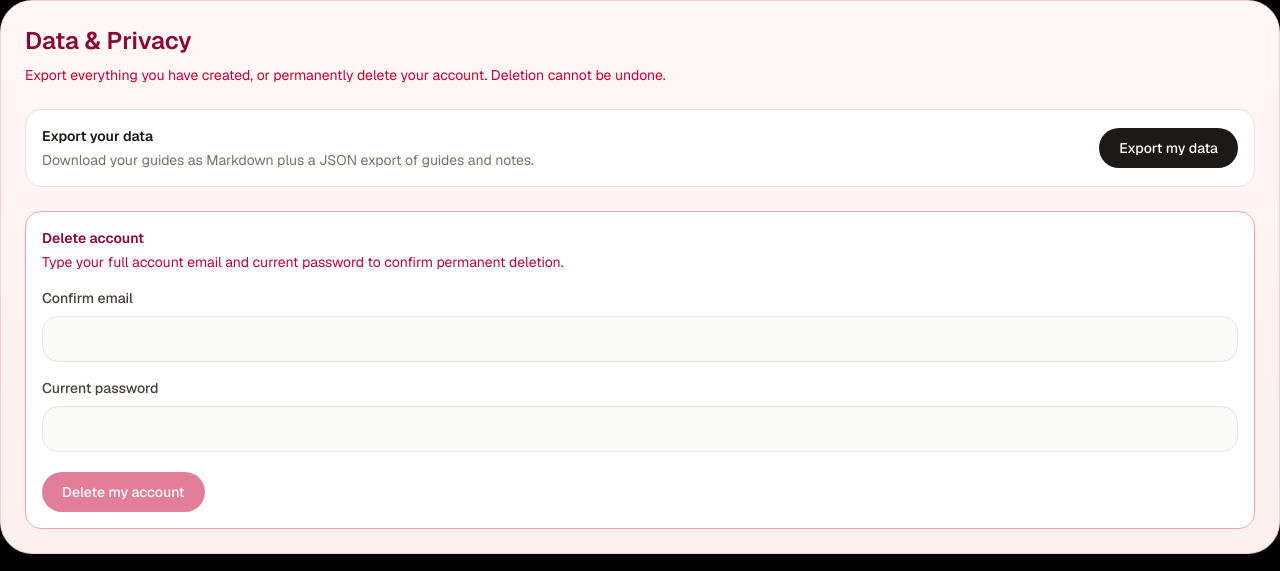
Test: DangerZone › keeps delete disabled until the confirmation email matches exactly
The width and height of the screenshot is (1280, 571).
Expected: the button with test id "account-delete-button" is disabled, [42,472,205,512]
Type "user@exampl" into the field with test id "account-delete-confirm-email". click: (640, 339)
box: [42,316,1238,362]
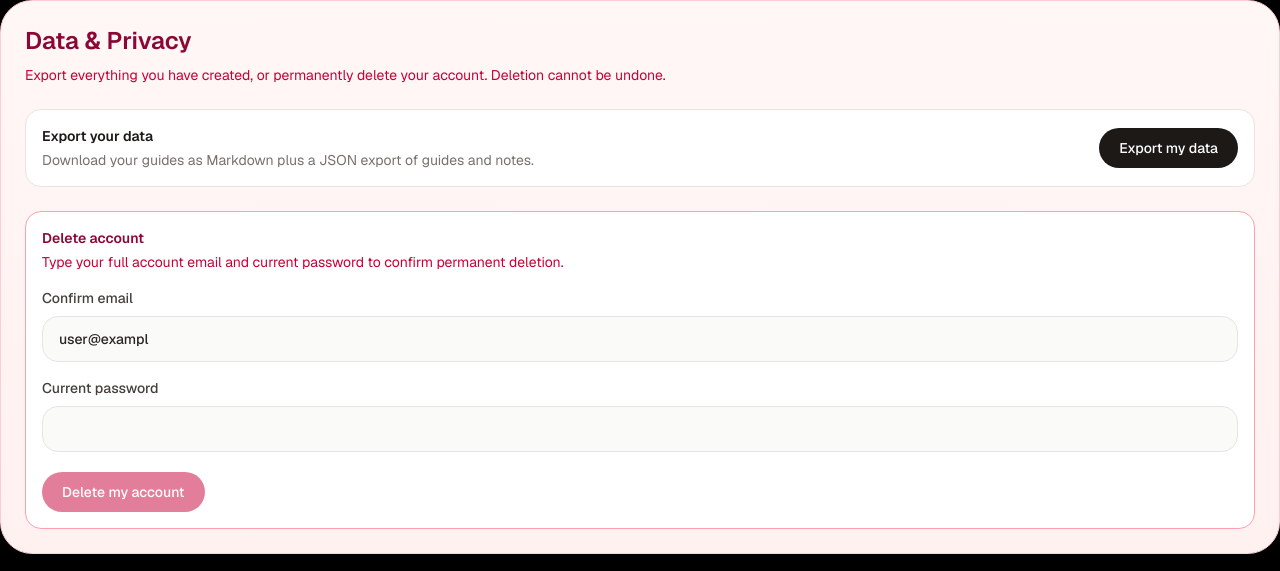
Type "Passw0rd!123" into the password field with test id "account-delete-password". click: (640, 429)
box: [42,406,1238,452]
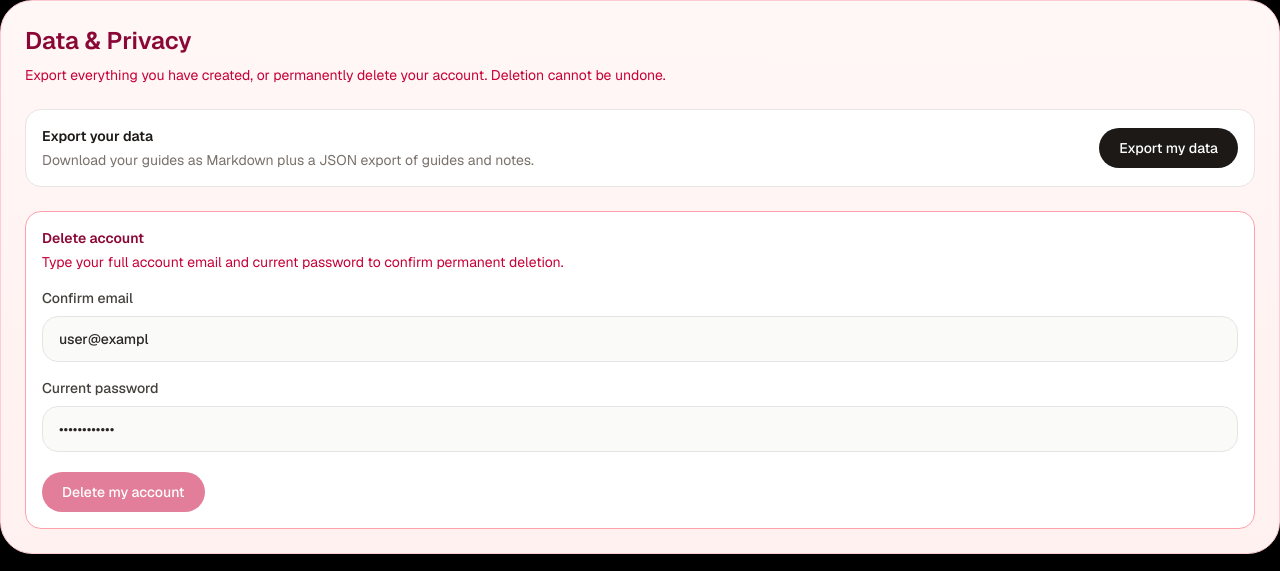
Expected: the button with test id "account-delete-button" is disabled, [42,472,205,512]
Replace the text in the field with test id "account-delete-confirm-email" with "user@example.com". click: (640, 339)
box: [42,316,1238,362]
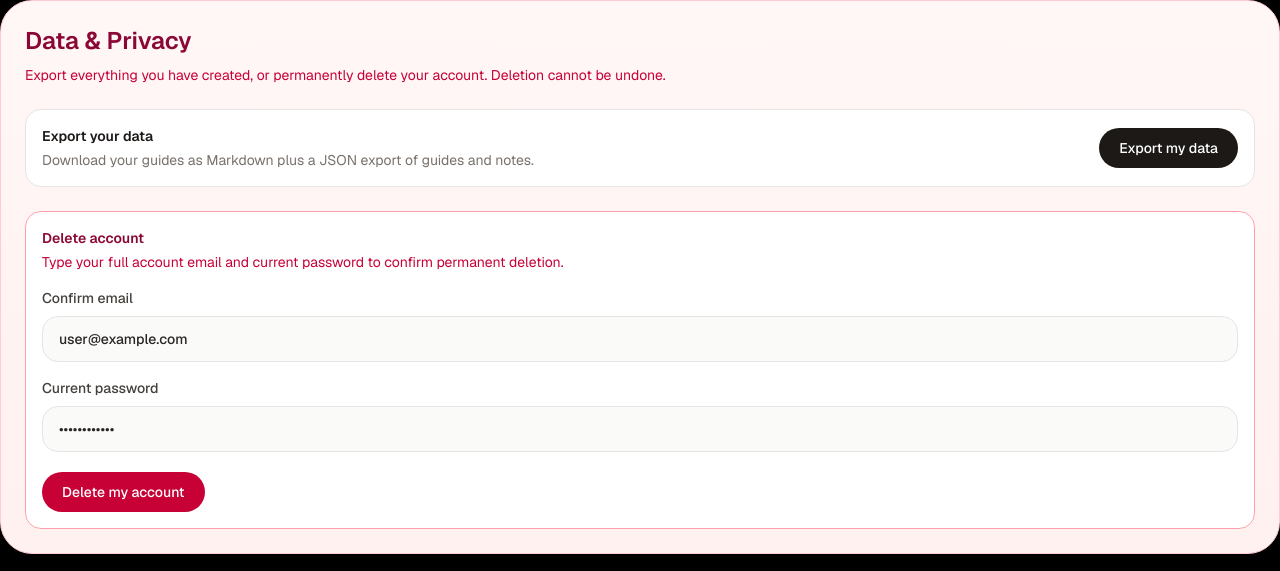
Now the button with test id "account-delete-button" is enabled, box [42,472,205,512]
